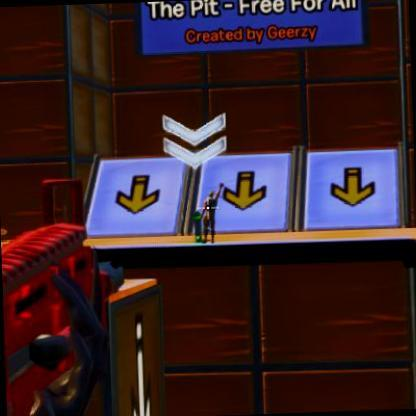person: (204, 188, 224, 240)
